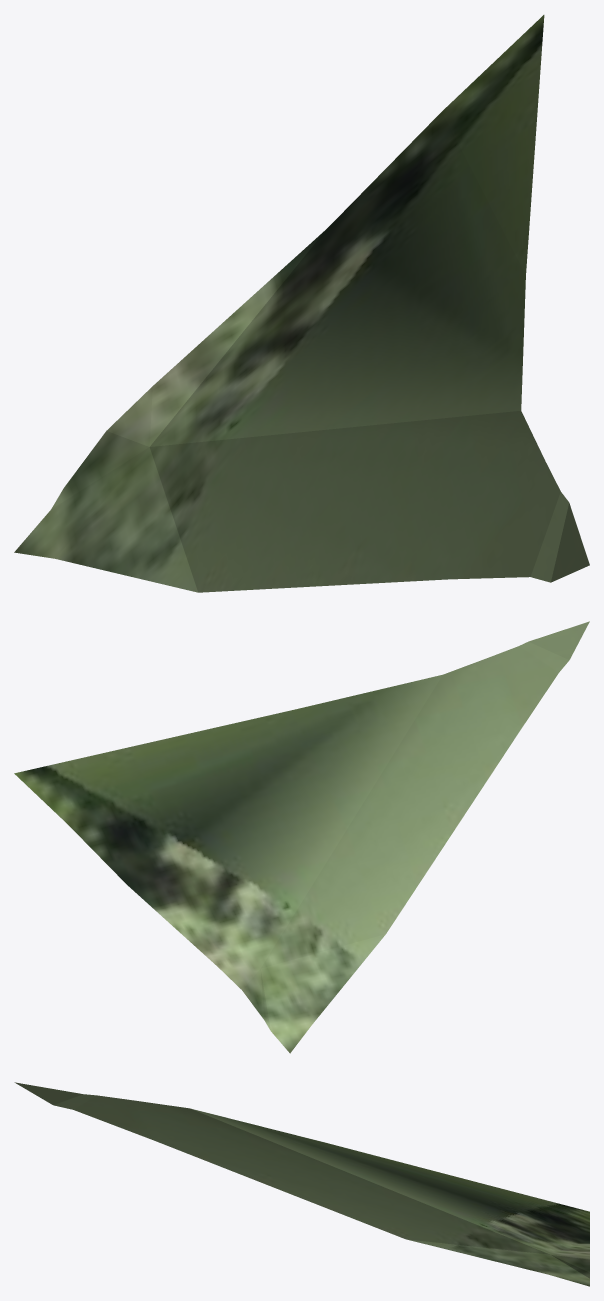
The picture shows the model from 3 angles, top to bottom: view 1: azimuth 30°, elevation 25°; view 2: azimuth 150°, elevation 25°; view 3: azimuth 270°, elevation 25°; orthographic projection. The views are drawn at different scales.
Size of the model in its own units: 8.3 by 6.11 by 15.6.
Materials: 1 (1 with a texture image).
